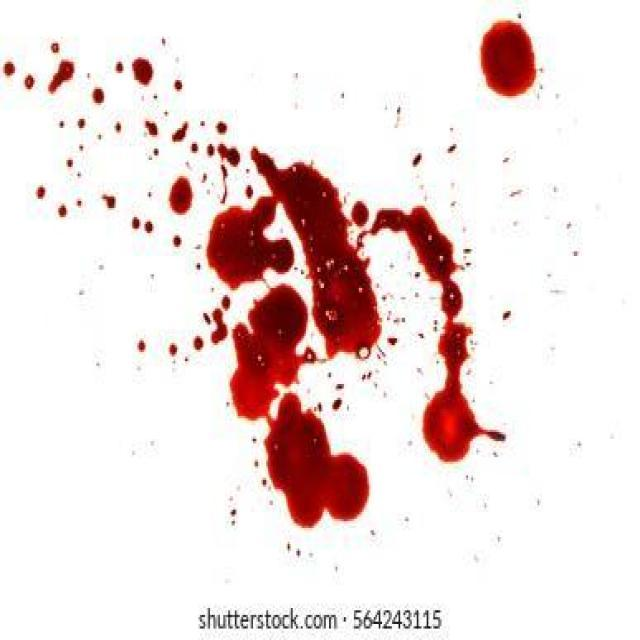flood: (183, 149, 384, 525), (398, 183, 502, 474), (475, 6, 551, 117)
